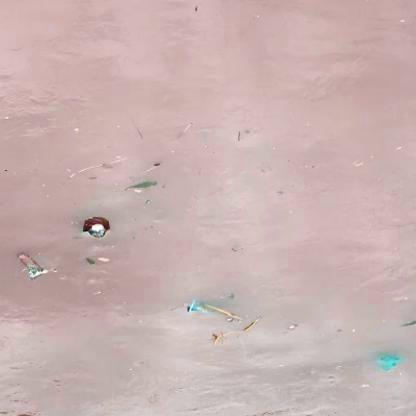Trash: (82, 215, 110, 242)
